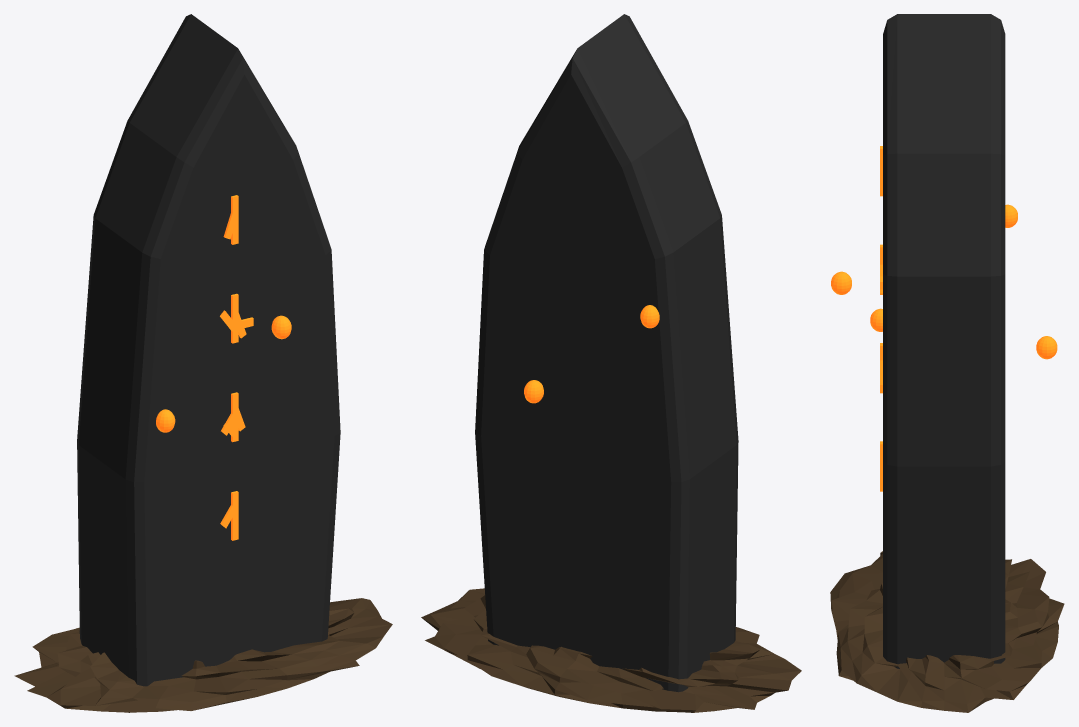
File: cinder-rune-stone.glb
3 views of the same model, side by side, from view 1: azimuth 30°, elevation 25°; view 2: azimuth 150°, elevation 25°; view 3: azimuth 270°, elevation 25° (orthographic).
Parts seen in each view (by area): view 1: Body_Stone, Body_Plant, Body_Glow, Spin_Glow; view 2: Body_Stone, Body_Plant, Spin_Glow; view 3: Body_Stone, Body_Plant, Spin_Glow, Body_Glow.
Boxes of the visible parts, x1,y1,x2,y2 form: Body_Stone: (77,14,340,712); Body_Plant: (14,598,392,712); Body_Glow: (220,195,253,540); Spin_Glow: (156,315,291,432); Body_Stone: (475,14,738,712); Body_Plant: (421,588,801,712); Spin_Glow: (524,305,659,403); Body_Stone: (883,14,1005,668); Body_Plant: (830,551,1064,712); Spin_Glow: (831,204,1057,359); Body_Glow: (880,146,882,491).
Size of the model in its own units: 1.4 by 2.4 by 0.8.
